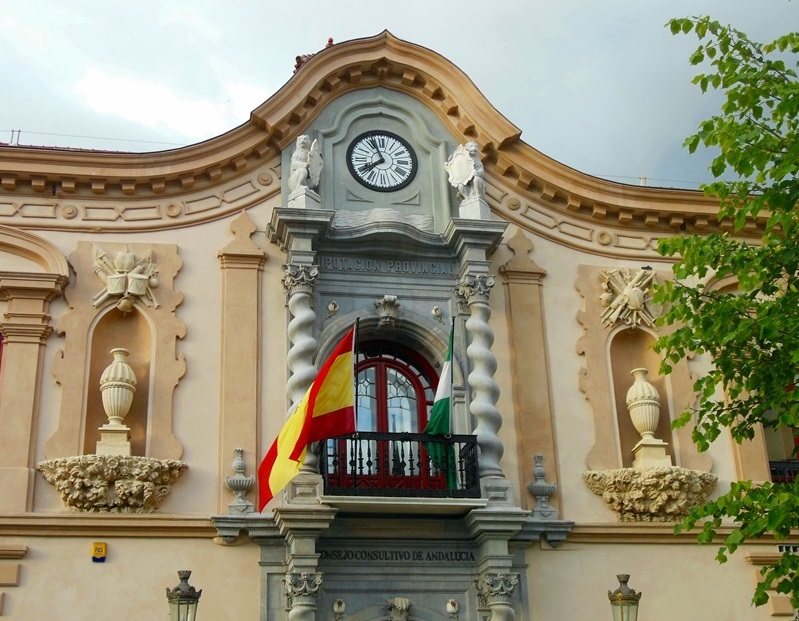arco-medio-punto: (321, 316, 461, 411)
columna-salomonica: (464, 302, 508, 481), (286, 288, 318, 468)
